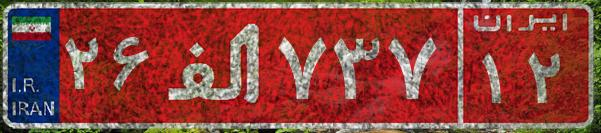1: (475, 38, 525, 113)
2: (57, 26, 110, 107), (525, 38, 570, 115)
3: (330, 28, 385, 110)
6: (110, 28, 158, 105)
7: (385, 28, 445, 110), (273, 28, 330, 110)
الف: (158, 15, 273, 115)
